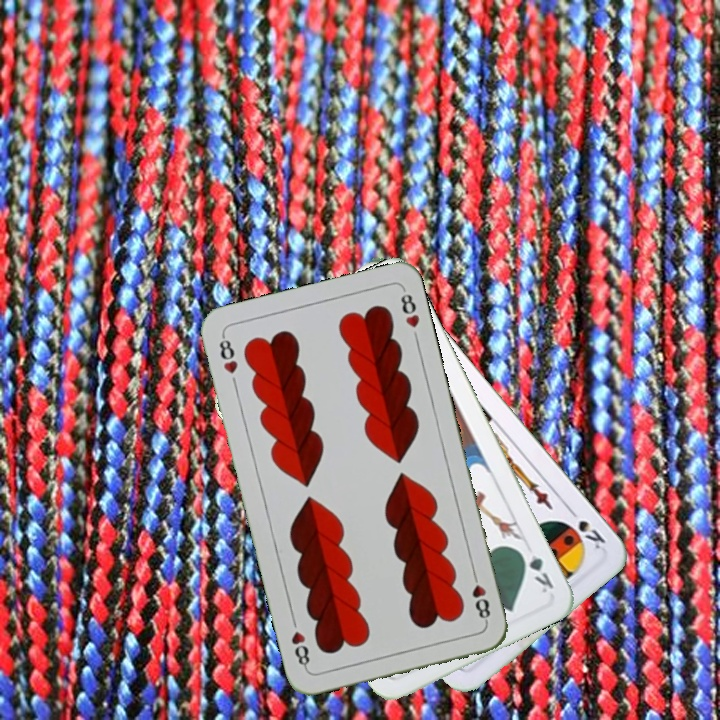GK: (515, 545, 557, 596)
H8: (468, 567, 493, 625), (215, 331, 241, 377)
SK: (563, 503, 609, 552)
